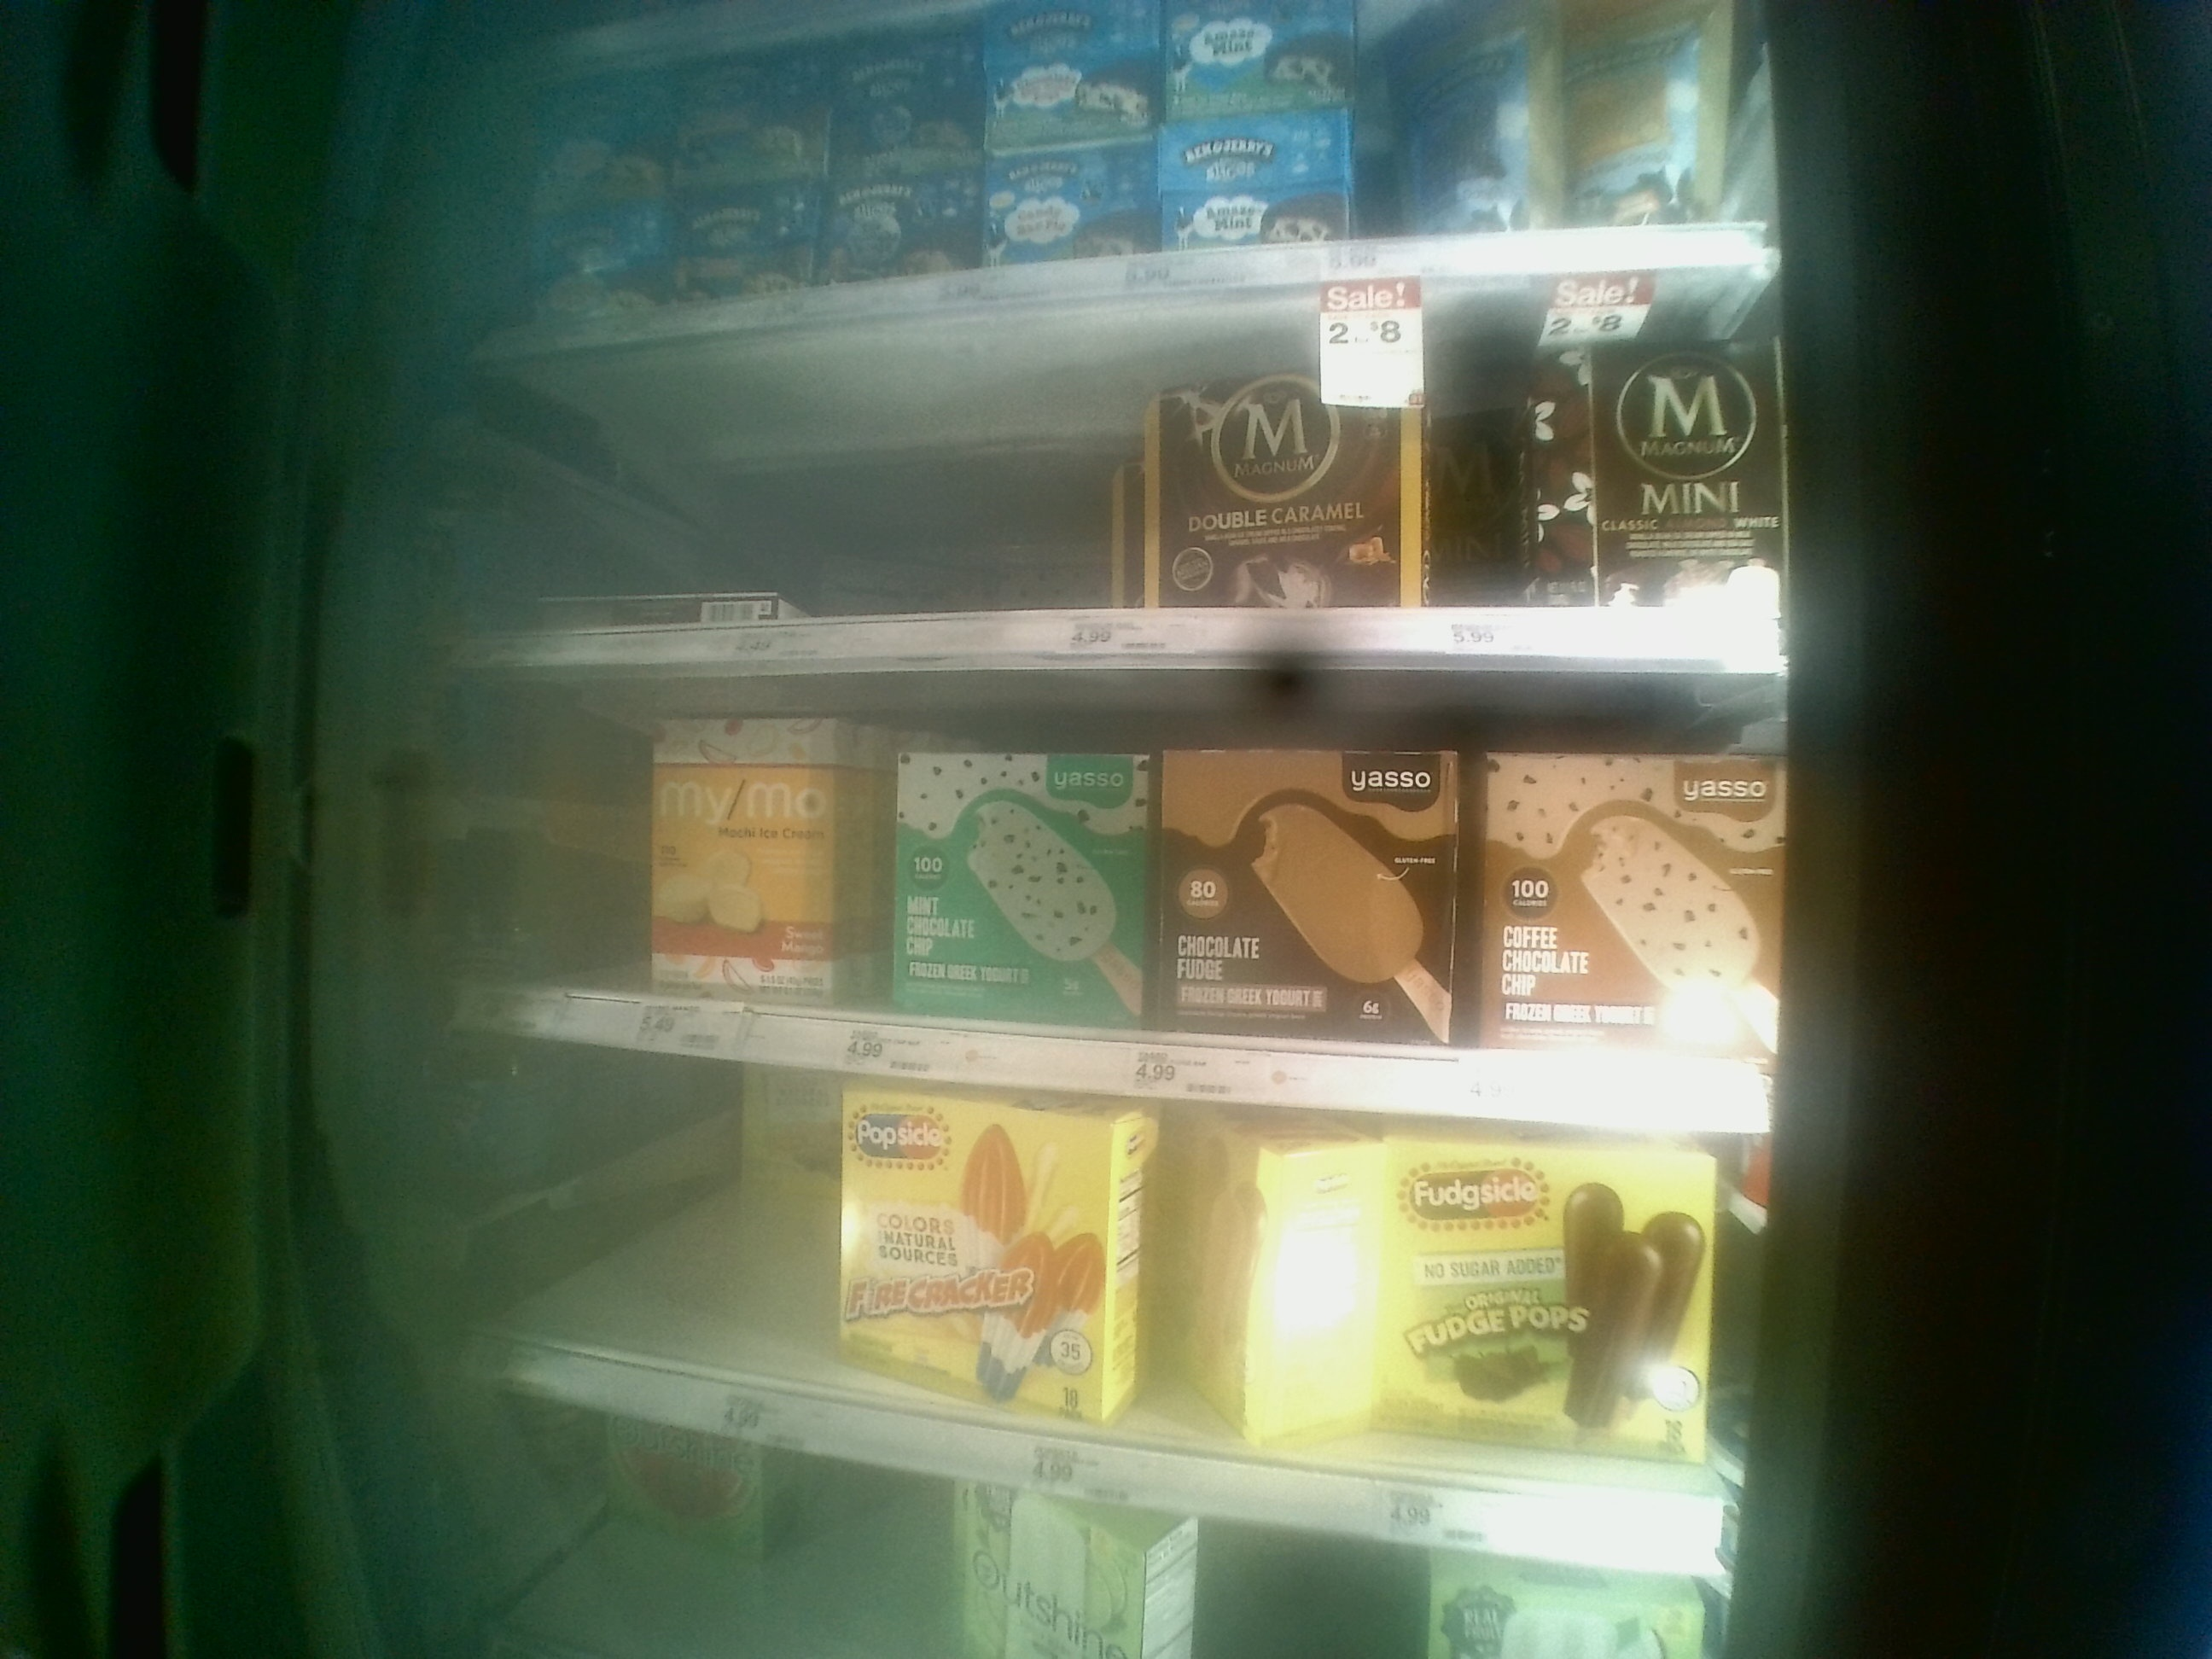ice-cream-shelf: (455, 657, 1766, 1080)
